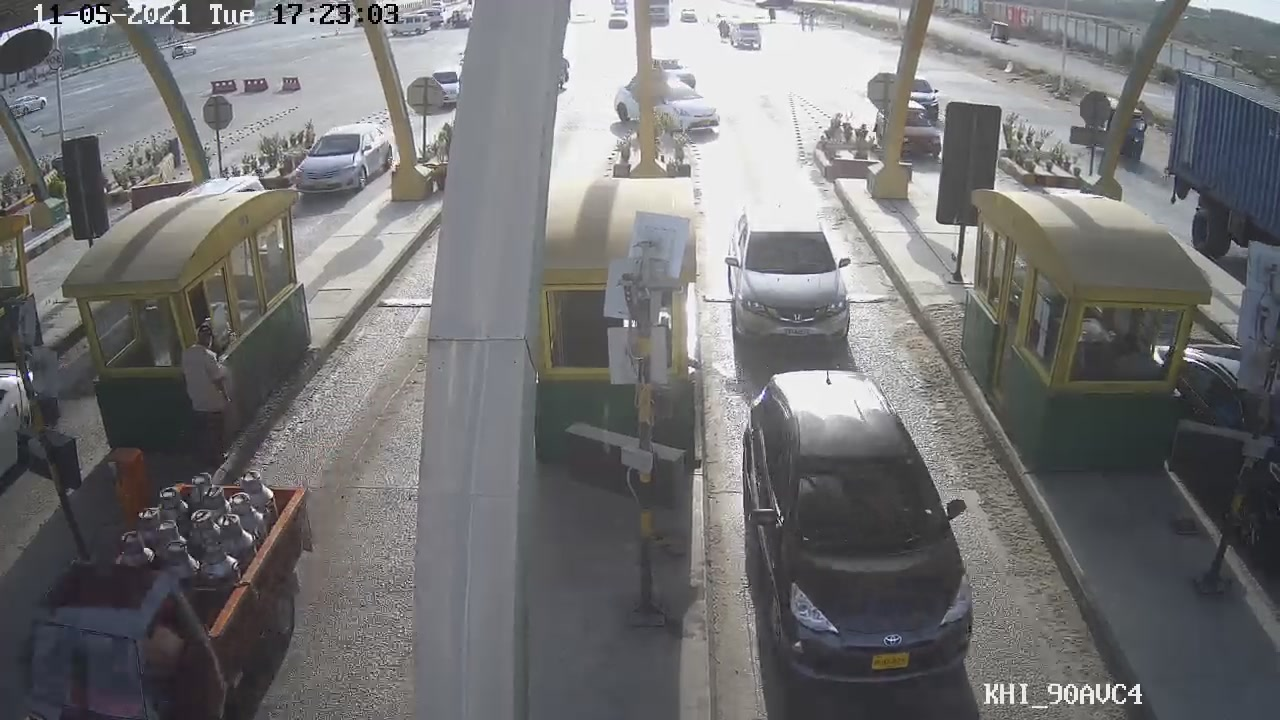F1: (737, 365, 980, 688), (722, 206, 863, 348)
